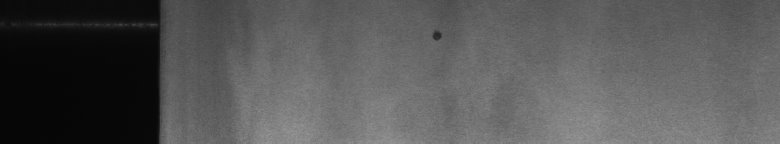fi: (425, 24, 445, 48)
